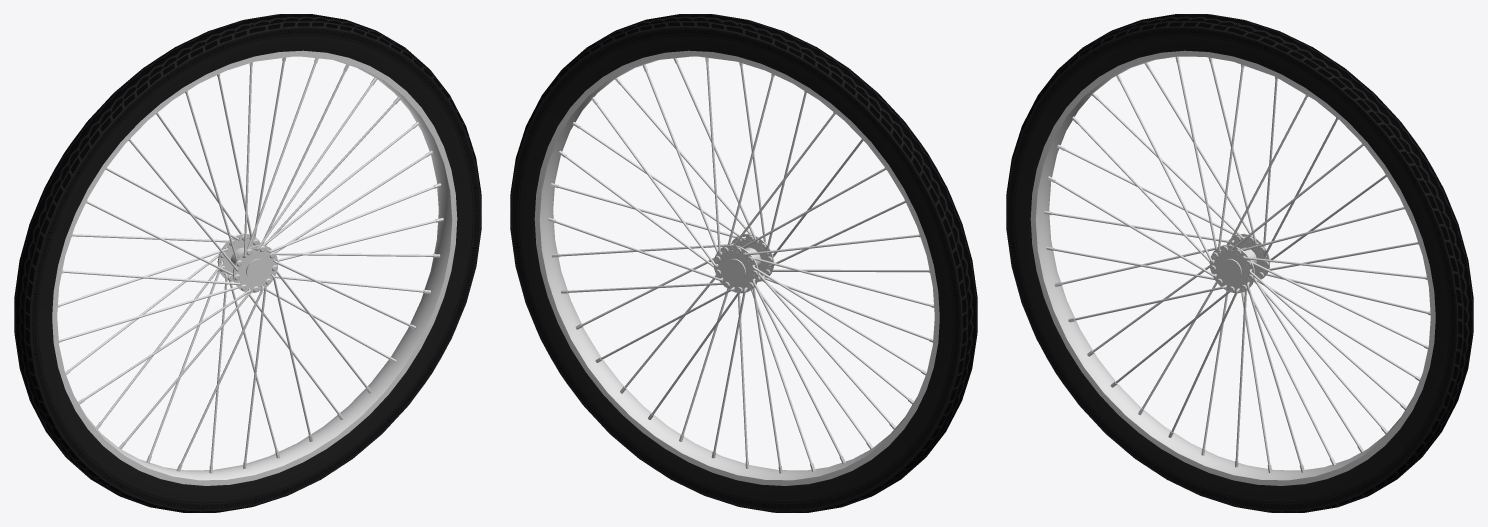
The model's file is defaultReifen.glb.
3 views of the same model, side by side, from view 1: azimuth 30°, elevation 25°; view 2: azimuth 150°, elevation 25°; view 3: azimuth 330°, elevation 25° (orthographic).
Parts seen in each view (by area): view 1: Bike01\ReifenDefault; view 2: Bike01\ReifenDefault; view 3: Bike01\ReifenDefault.
Boxes of the visible parts, x1,y1,x2,y2 form: Bike01\ReifenDefault: [14, 14, 481, 512]; Bike01\ReifenDefault: [510, 14, 977, 512]; Bike01\ReifenDefault: [1006, 14, 1473, 512].
Size of the model in its own units: 0.7017 by 0.7037 by 0.0505.
Materials: 3 (2 with a texture image).
